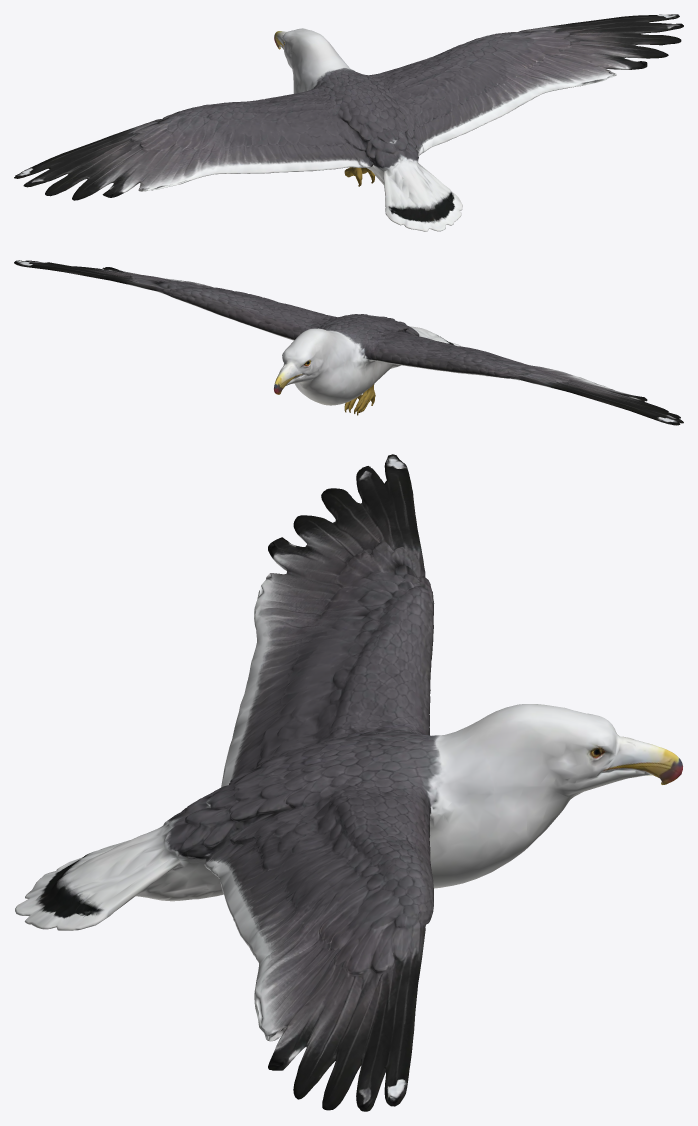
File: gull-fly-high.glb
The picture shows the model from 3 angles, top to bottom: view 1: azimuth 30°, elevation 25°; view 2: azimuth 150°, elevation 25°; view 3: azimuth 270°, elevation 25°; orthographic projection. The views are drawn at different scales.
Parts seen in each view (by area): view 1: wingL-mesh, wingR-mesh, body-mesh; view 2: body-mesh, wingL-mesh, wingR-mesh; view 3: body-mesh, wingR-mesh, wingL-mesh.
Boxes of the visible parts, bbox=[...] form: wingL-mesh: bbox=[14, 90, 361, 200]; wingR-mesh: bbox=[374, 14, 683, 152]; body-mesh: bbox=[274, 28, 462, 231]; body-mesh: bbox=[274, 313, 461, 415]; wingL-mesh: bbox=[370, 331, 683, 425]; wingR-mesh: bbox=[14, 260, 335, 340]; body-mesh: bbox=[15, 704, 682, 930]; wingR-mesh: bbox=[211, 786, 433, 1111]; wingL-mesh: bbox=[221, 454, 434, 787].
Size of the model in its own units: 1.1 by 0.1769 by 0.48.
1 material, 1 textured.
